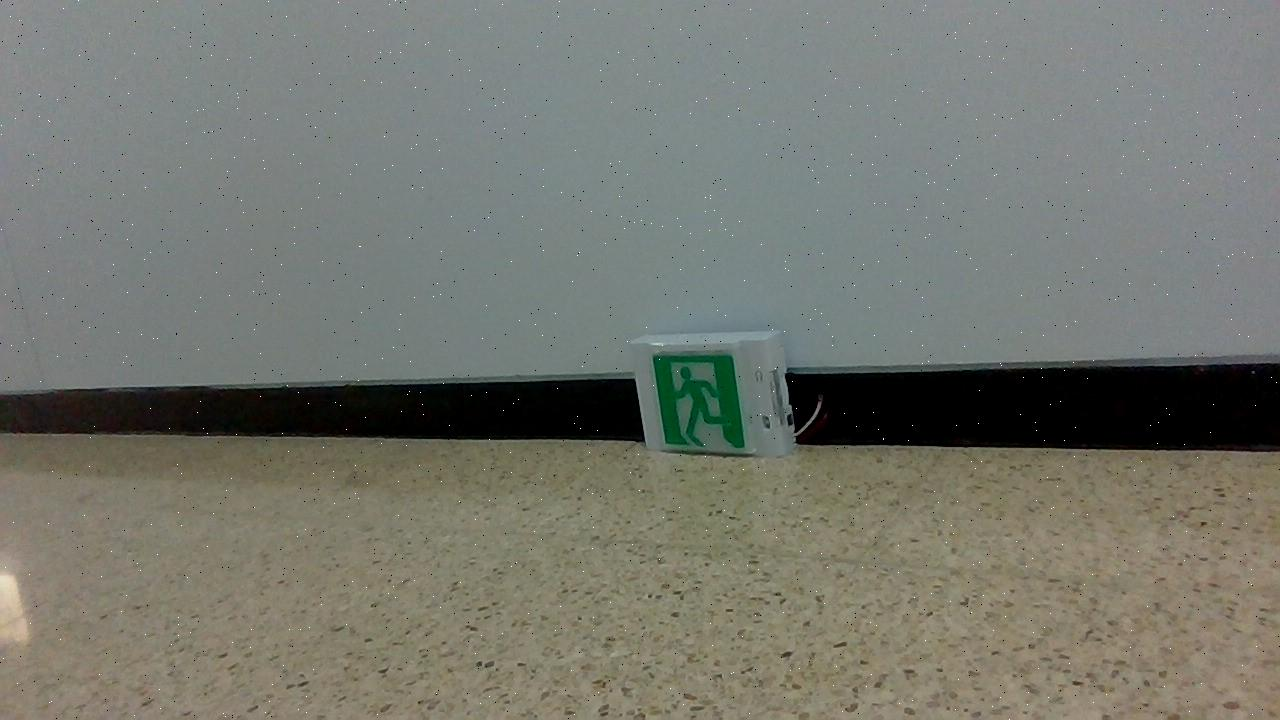emergency_exit: (628, 330, 796, 458)
